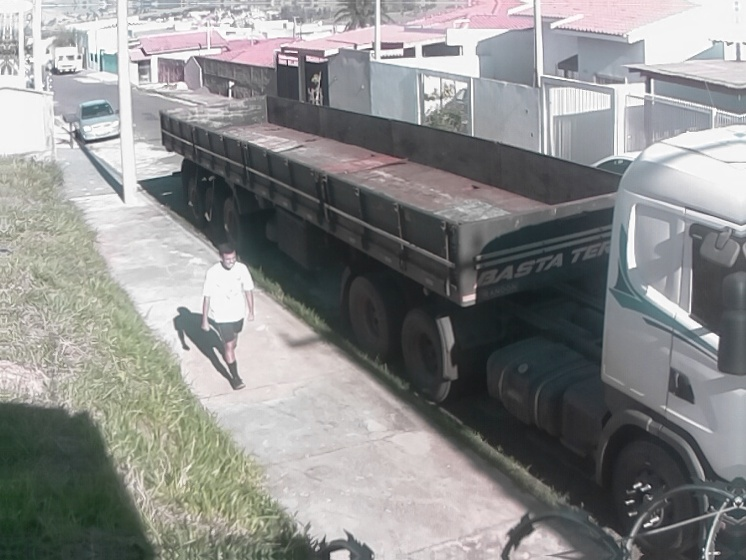person: (197, 243, 257, 392)
